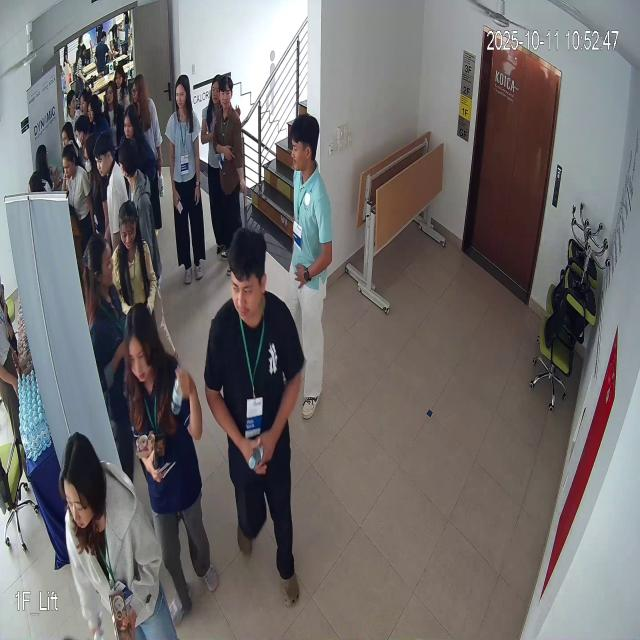face: (229, 219, 269, 326), (286, 114, 330, 176), (76, 236, 116, 299), (112, 192, 142, 252), (217, 70, 236, 113), (173, 73, 190, 112)
